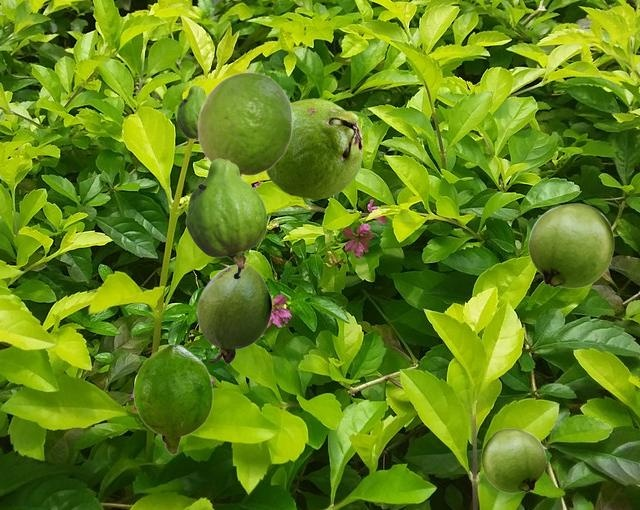guava: (197, 71, 292, 176), (185, 158, 266, 278), (266, 98, 362, 198), (133, 344, 212, 454), (197, 263, 271, 363), (528, 203, 613, 287), (481, 428, 545, 492), (176, 85, 206, 139)
